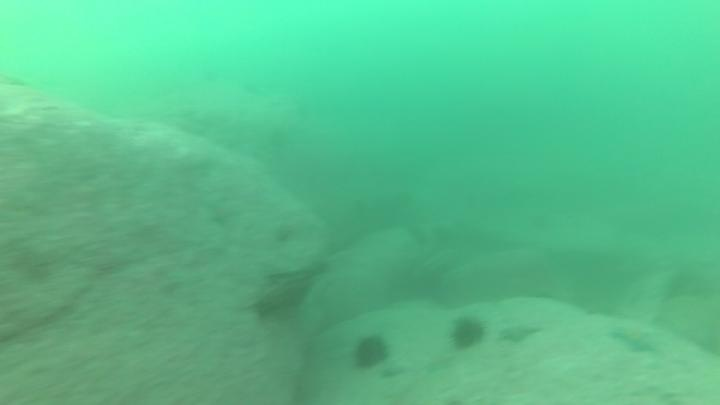echinus: (349, 331, 393, 374), (446, 313, 489, 354)
starfish: (606, 320, 662, 359), (494, 319, 546, 348)
